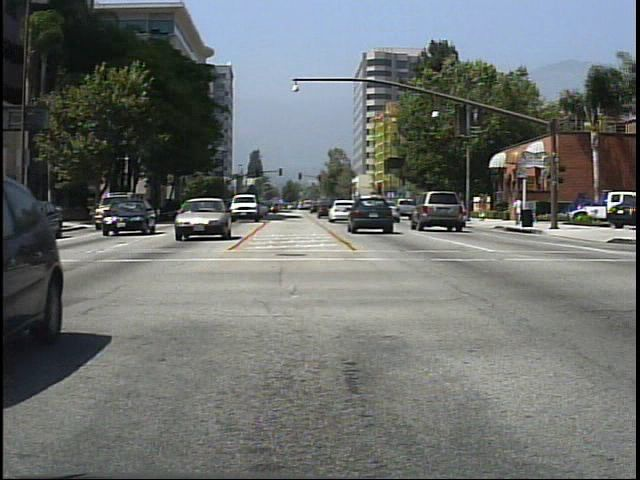person: (510, 194, 524, 229), (476, 191, 489, 224)
